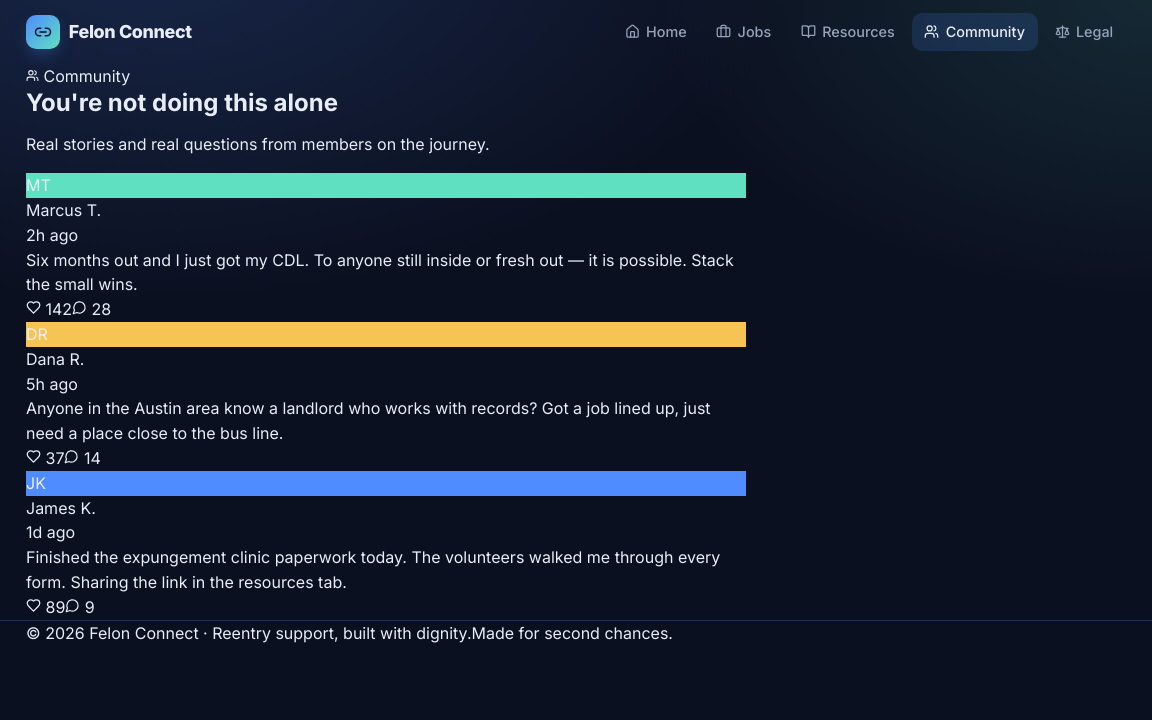
App – routing › navigates to the Legal page
Click the link "Legal" at (1084, 31), box top-left (1054, 23), bottom-right (1113, 40)
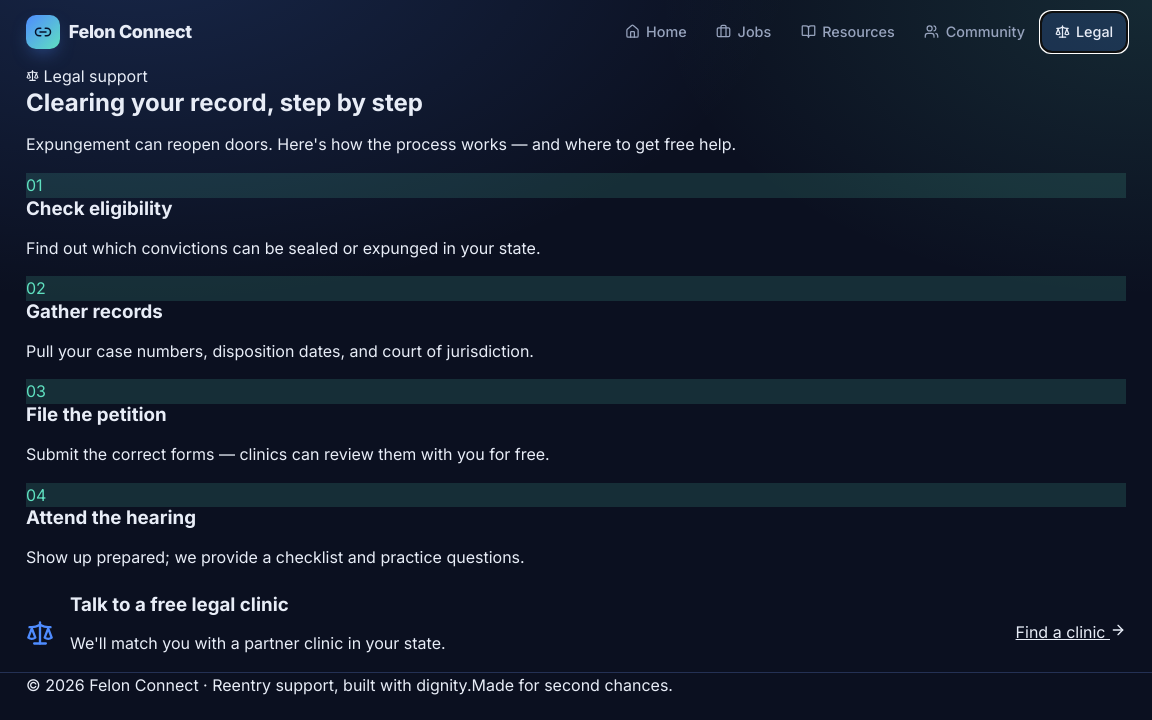
Result: the heading "Clearing your record, step by step" is shown at top-left (26, 88), bottom-right (423, 117)
